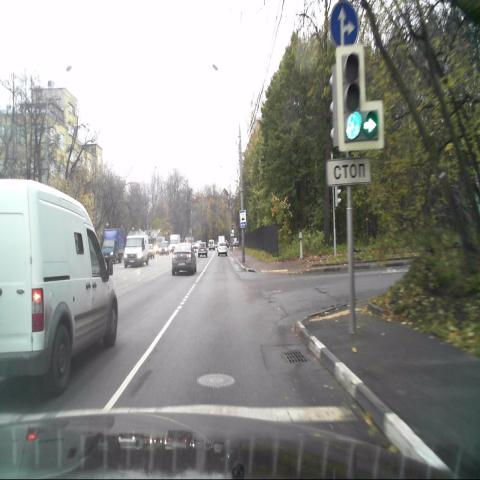4_1_4: (328, 1, 358, 47)
